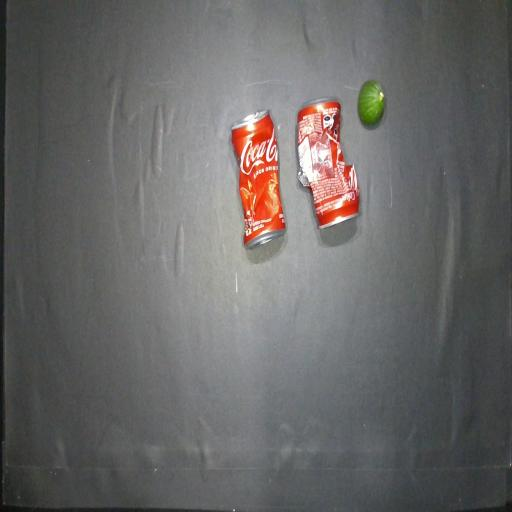higo: (358, 80, 385, 126)
lata_defectuoso: (297, 98, 359, 229), (231, 110, 286, 249)
